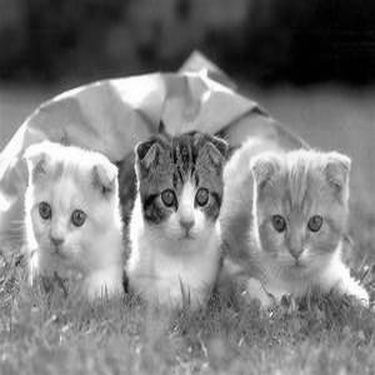cat: (220, 134, 371, 316), (122, 123, 230, 314), (14, 139, 124, 306)
